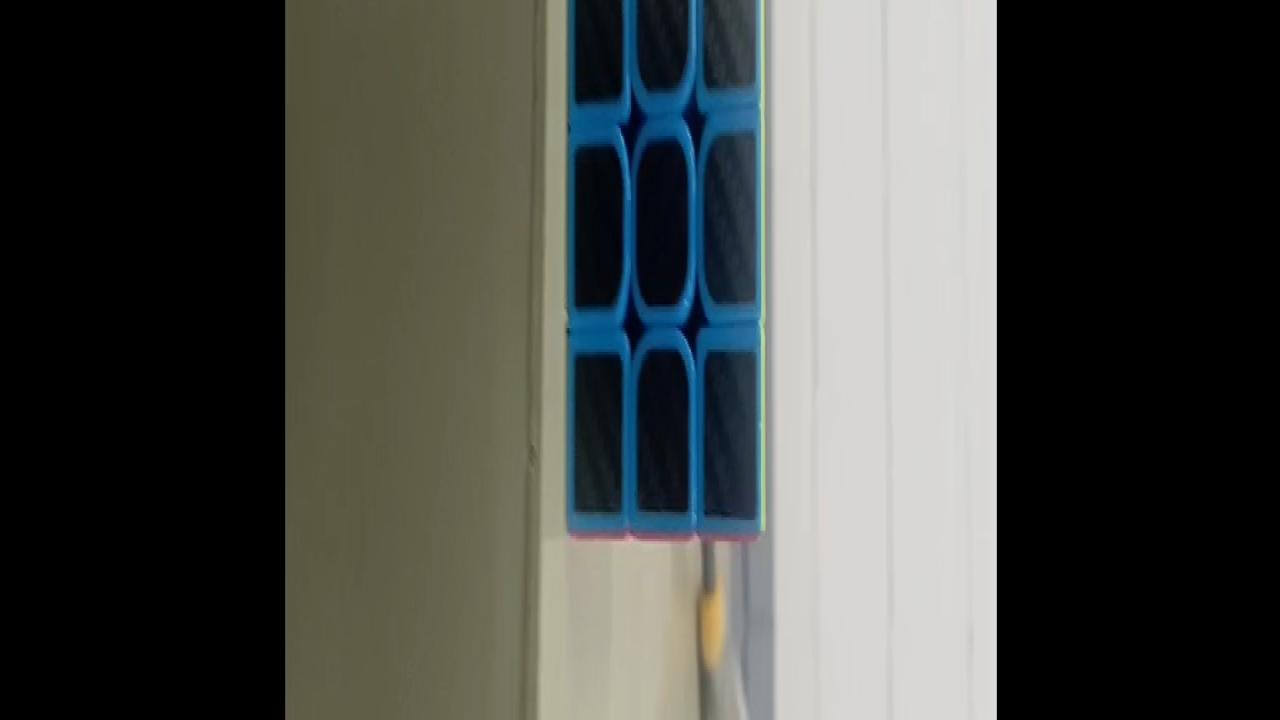Cube: (565, 0, 767, 546)
